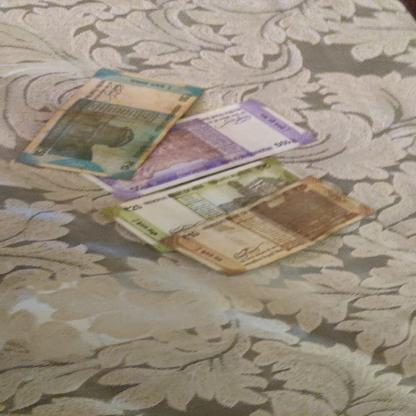New100Back: (76, 96, 321, 202)
New10Back: (158, 175, 378, 277)
New20Back: (96, 156, 307, 254)
New50Back: (18, 67, 206, 182)
